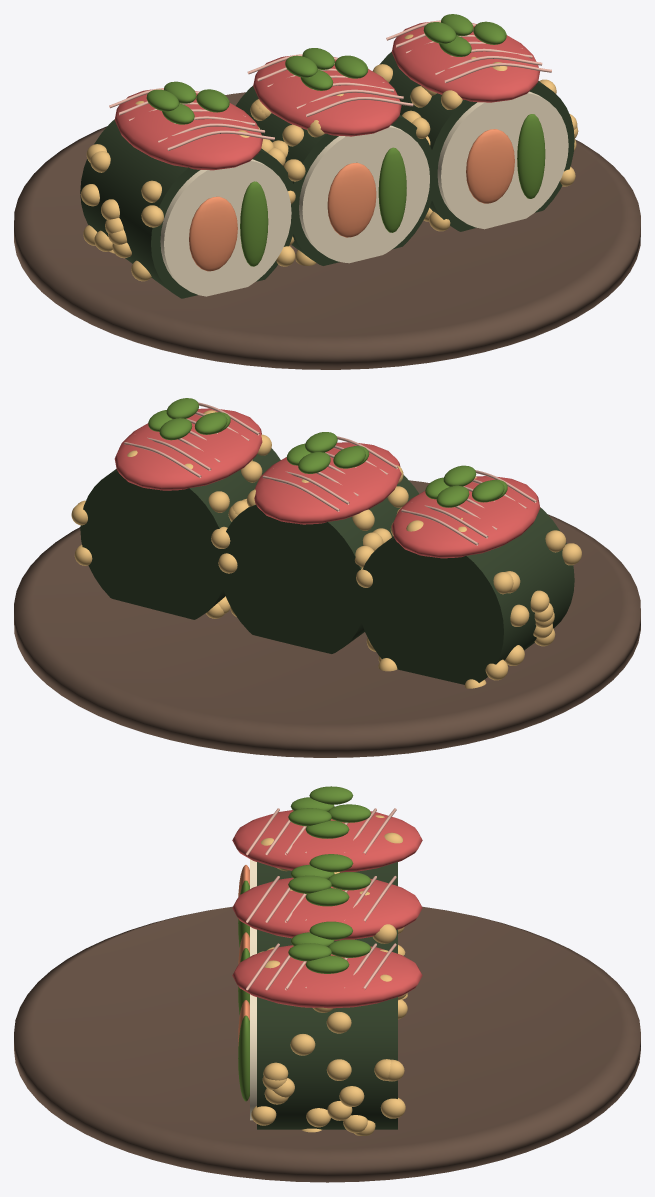
Rendered from 26-tuna-roll.glb.
The picture shows the model from 3 angles, top to bottom: view 1: azimuth 30°, elevation 25°; view 2: azimuth 150°, elevation 25°; view 3: azimuth 270°, elevation 25°; orthographic projection.
Visible parts, largest first — view 1: 매콤 아부리 참치롤; view 2: 매콤 아부리 참치롤; view 3: 매콤 아부리 참치롤.
Part boxes in pixels (x1=…): 매콤 아부리 참치롤: x1=14, y1=14, x2=640, y2=369; 매콤 아부리 참치롤: x1=14, y1=398, x2=640, y2=757; 매콤 아부리 참치롤: x1=14, y1=786, x2=640, y2=1182.
Size of the model in its own units: 2 by 0.701 by 2.
